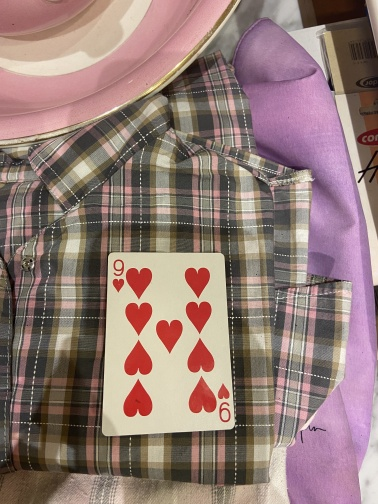nine: (99, 251, 237, 437)
